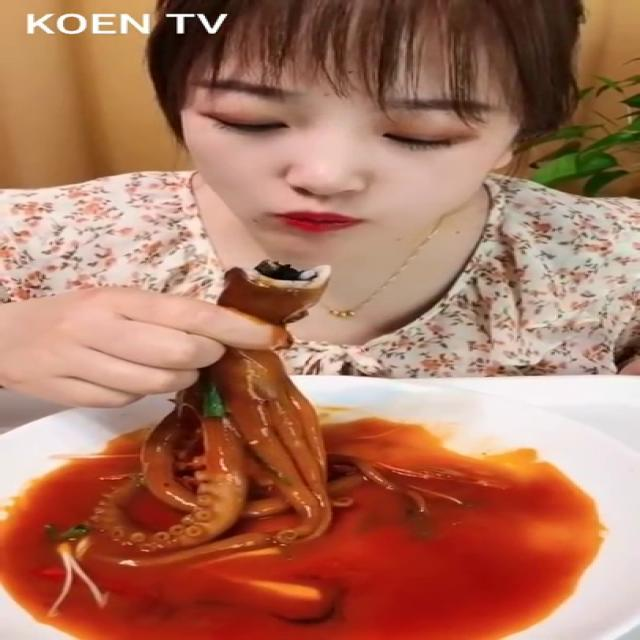octopus: (64, 252, 484, 576)
